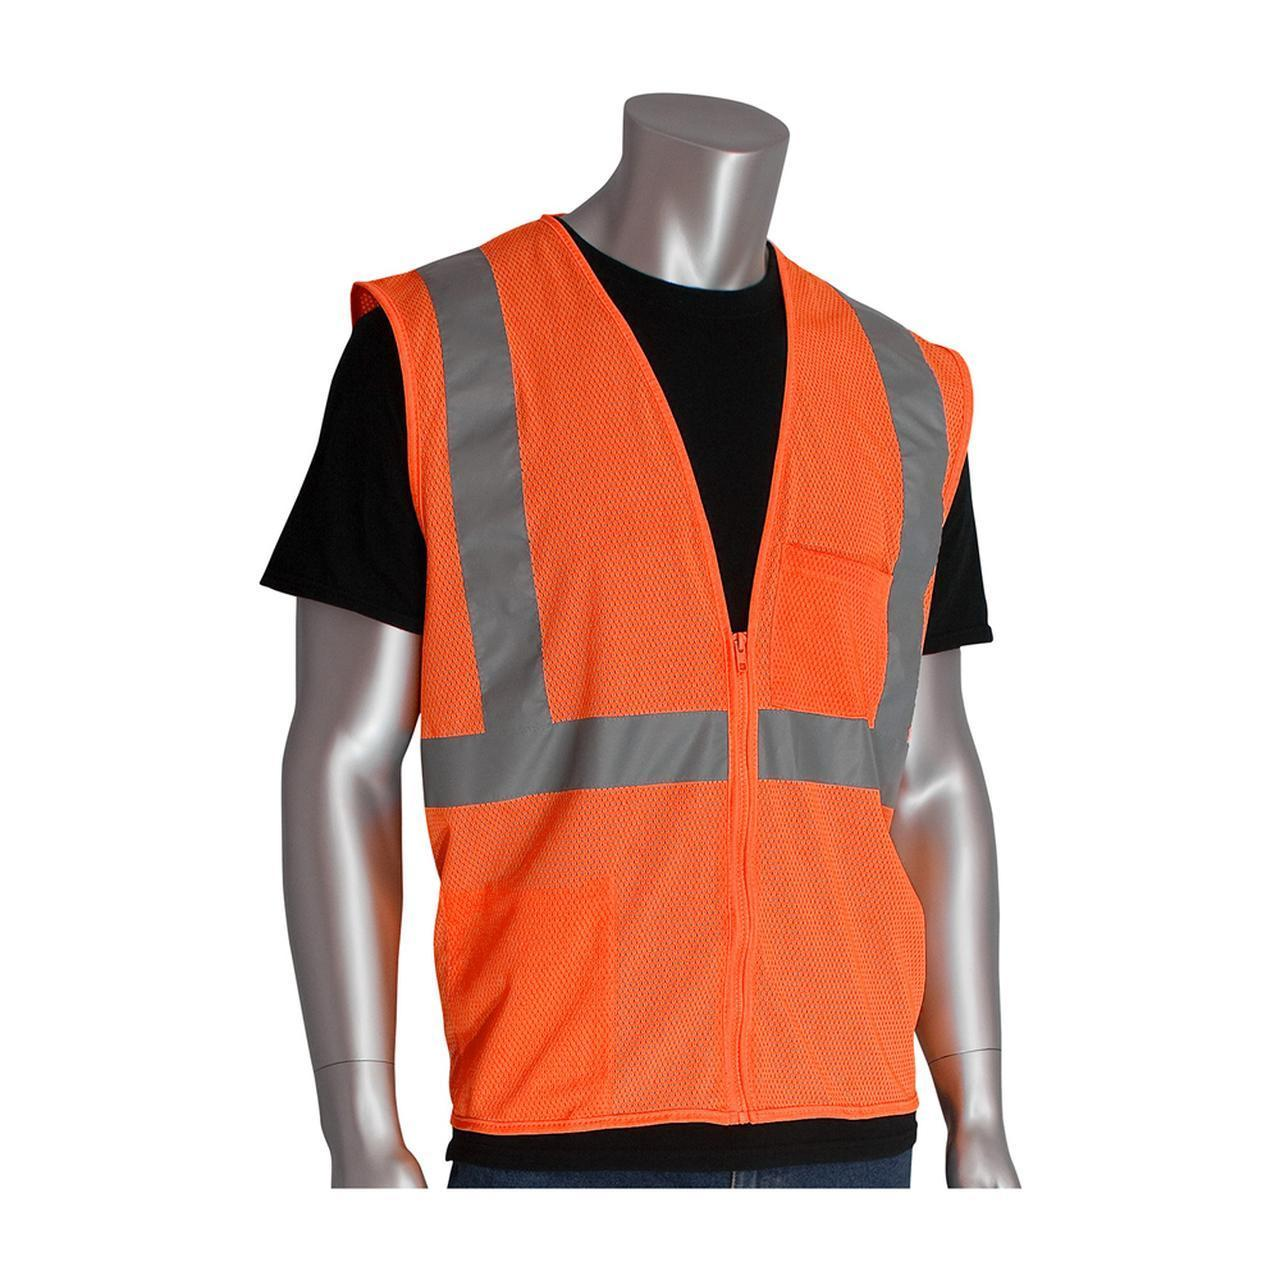vest: (341, 217, 978, 1142)
